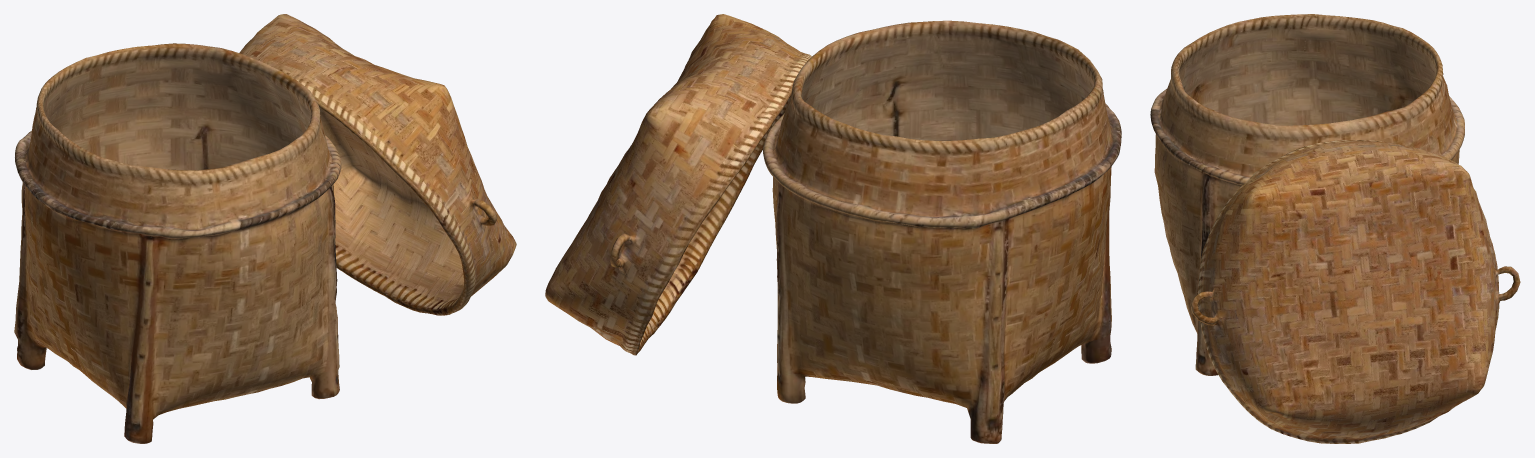
File: wicker_basket_02.glb
3 renders of one model, left to right at view 1: azimuth 30°, elevation 25°; view 2: azimuth 150°, elevation 25°; view 3: azimuth 270°, elevation 25°, orthographic. The views are drawn at different scales.
Visible parts, largest first — view 1: wicker_basket_02_base, wicker_basket_02_lid; view 2: wicker_basket_02_base, wicker_basket_02_lid; view 3: wicker_basket_02_lid, wicker_basket_02_base.
Boxes of the visible parts, x1=… form: wicker_basket_02_base: x1=14, y1=43, x2=341, y2=443; wicker_basket_02_lid: x1=239, y1=14, x2=516, y2=315; wicker_basket_02_base: x1=763, y1=20, x2=1121, y2=443; wicker_basket_02_lid: x1=545, y1=14, x2=811, y2=355; wicker_basket_02_lid: x1=1190, y1=140, x2=1520, y2=443; wicker_basket_02_base: x1=1150, y1=14, x2=1464, y2=375.
Size of the model in its own units: 0.3469 by 0.2005 by 0.2544.
Materials: 1 (1 with a texture image).
